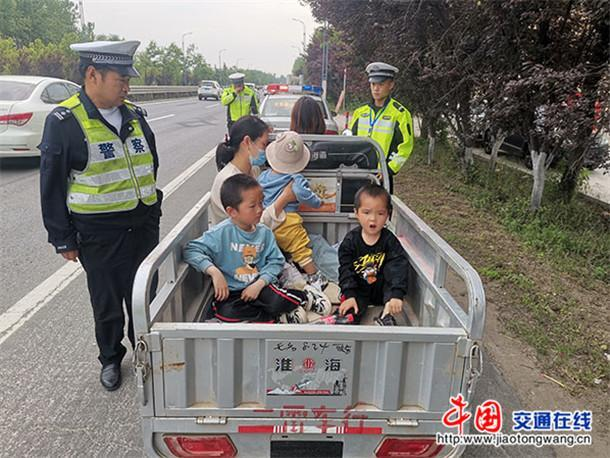driver: (284, 88, 340, 139)
overloading: (138, 97, 484, 454)
passenger: (174, 175, 303, 338), (323, 182, 433, 339), (261, 127, 325, 273), (196, 111, 268, 179)
